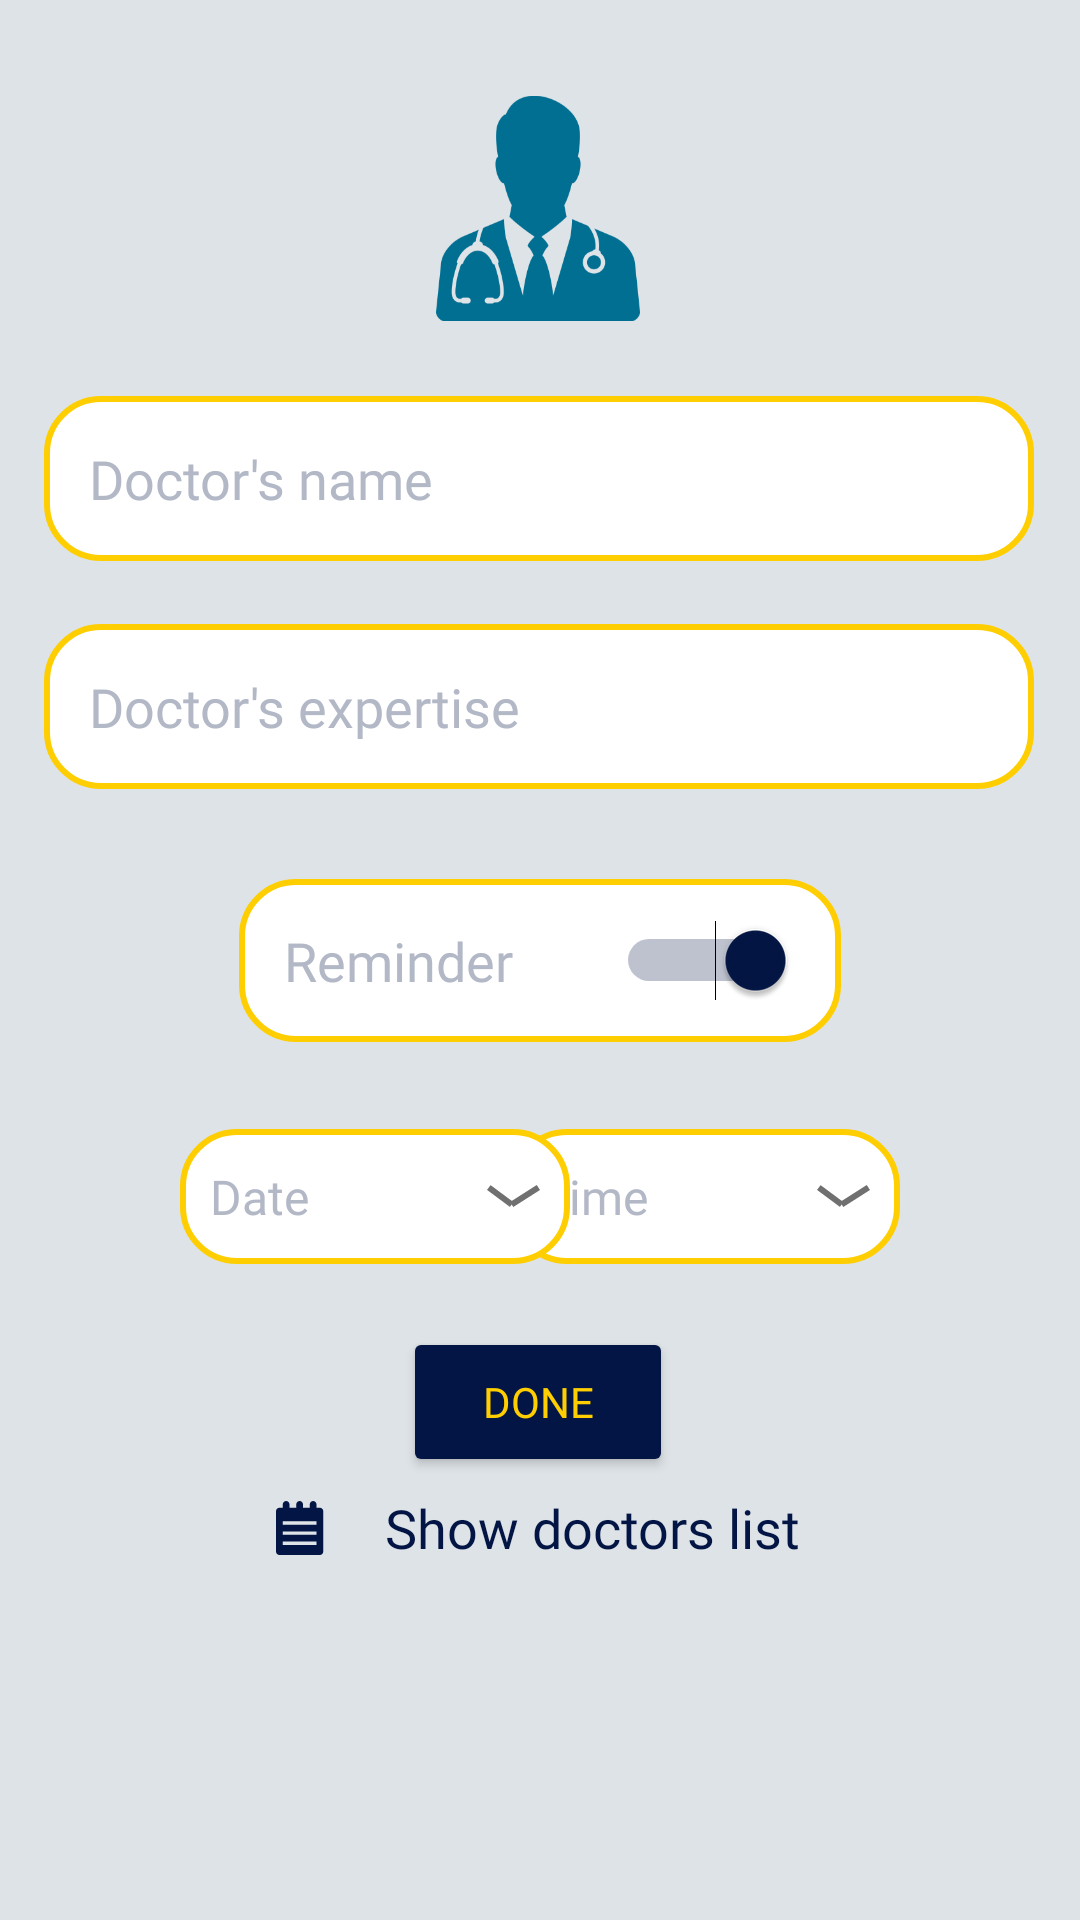

Locate icon controls on the screen. Image size 1080 x 1920, boxes as (left=x1, top=y1, right=x2, bottom=y2).
doctorimg: (left=436, top=96, right=640, bottom=321)
